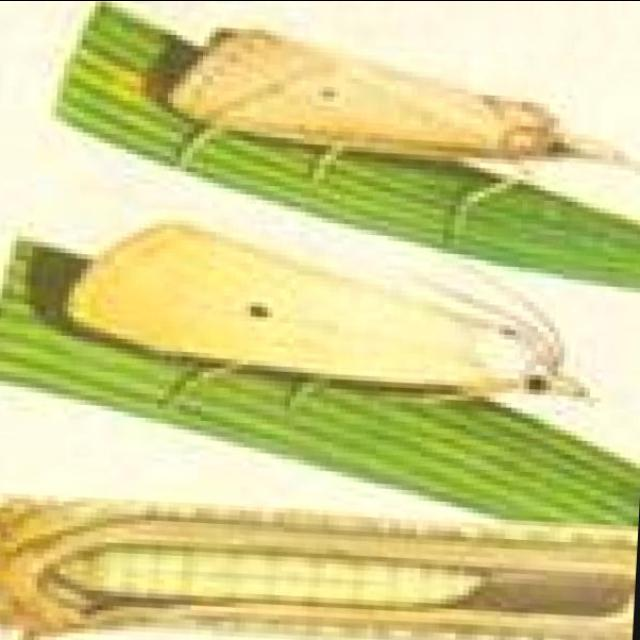stem borer: (65, 223, 587, 418), (0, 501, 637, 640), (167, 31, 587, 186)
